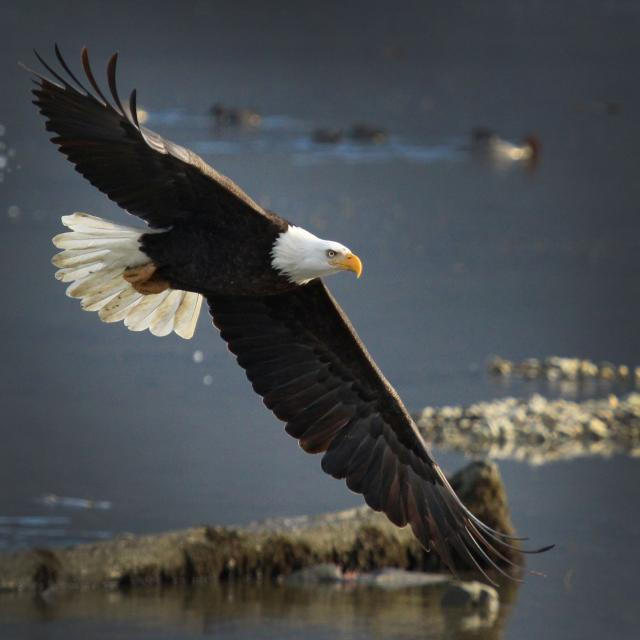Eagle: (23, 36, 528, 588)
